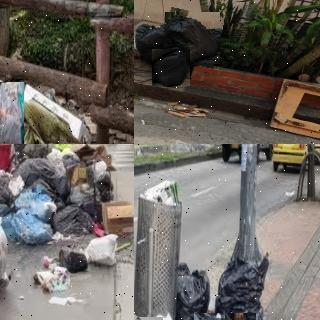Garbage: (215, 253, 269, 320), (163, 10, 222, 67), (134, 21, 179, 65), (175, 262, 209, 320), (0, 208, 51, 244), (0, 82, 24, 144), (152, 49, 190, 87), (50, 202, 94, 234), (86, 234, 120, 267), (58, 243, 87, 273)
